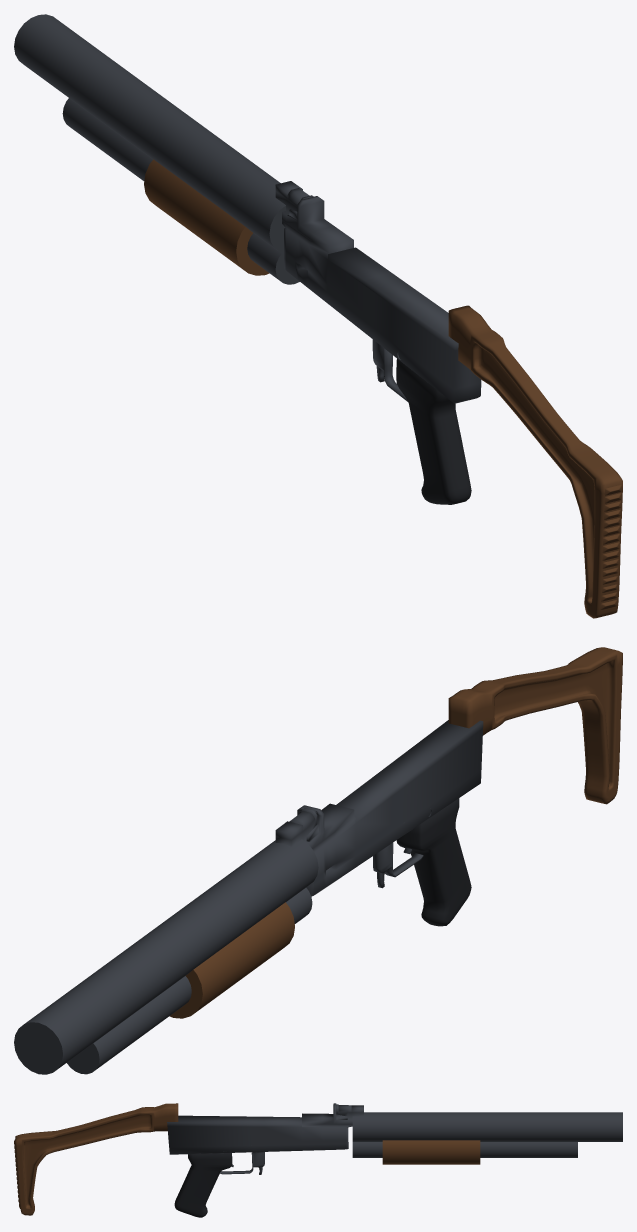
The model's file is fk-breacher.glb.
3 views of the same model, one above another, from view 1: azimuth 30°, elevation 25°; view 2: azimuth 150°, elevation 25°; view 3: azimuth 270°, elevation 25° (orthographic). The views are drawn at different scales.
Visible parts, largest first — view 1: #cyl (×2), body003_102, stock005_136, grip010_95, pump; view 2: #cyl (×2), body003_102, stock005_136, grip010_95, pump; view 3: #cyl (×2), body003_102, stock005_136, pump, grip010_95.
Part boxes in pixels (x1=…): #cyl (×2): x1=14, y1=14, x2=299, y2=284; body003_102: x1=275, y1=181, x2=481, y2=403; stock005_136: x1=448, y1=305, x2=622, y2=618; grip010_95: x1=396, y1=359, x2=471, y2=504; pump: x1=144, y1=159, x2=269, y2=275; #cyl (×2): x1=14, y1=839, x2=318, y2=1074; body003_102: x1=275, y1=720, x2=483, y2=896; stock005_136: x1=448, y1=647, x2=622, y2=804; grip010_95: x1=396, y1=798, x2=471, y2=926; pump: x1=169, y1=902, x2=294, y2=1018; #cyl (×2): x1=352, y1=1112, x2=622, y2=1157; body003_102: x1=167, y1=1103, x2=363, y2=1174; stock005_136: x1=14, y1=1103, x2=178, y2=1215; pump: x1=382, y1=1140, x2=480, y2=1164; grip010_95: x1=174, y1=1153, x2=232, y2=1217.
Bounding box in the file's own units: 0.4799 × 1.63 × 8.11.
